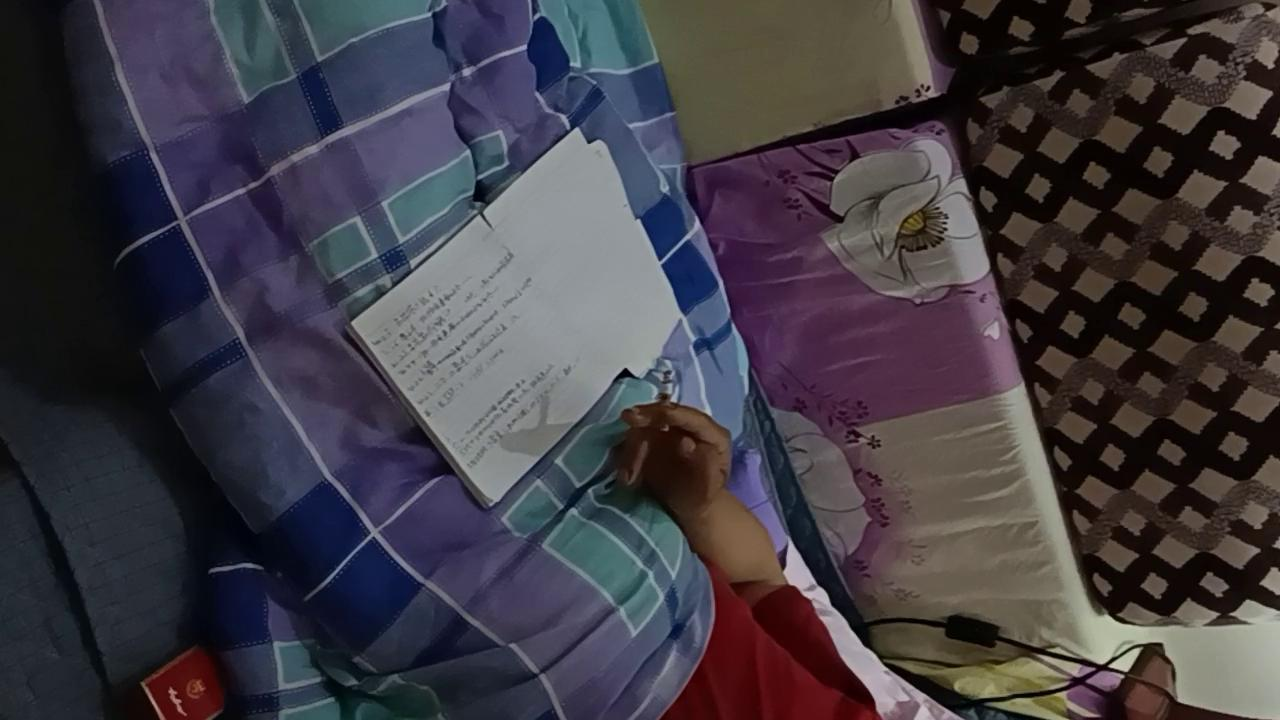smoke: (657, 370, 674, 432)
